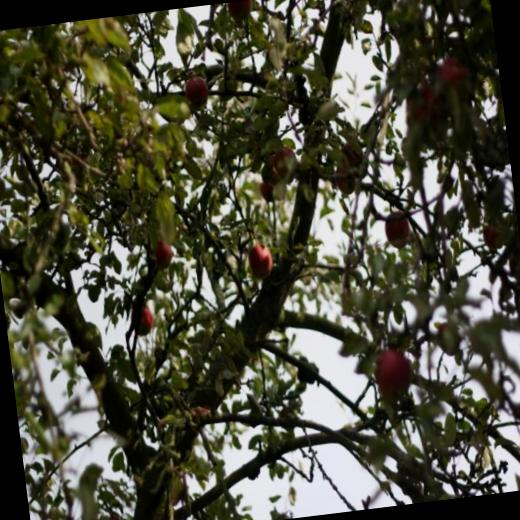Apple: (374, 342, 418, 406), (402, 83, 444, 134), (436, 54, 472, 90), (383, 210, 412, 253), (248, 244, 275, 284), (274, 146, 301, 185), (330, 158, 356, 198), (436, 320, 463, 358), (128, 304, 156, 338), (181, 76, 209, 110), (68, 153, 93, 188), (152, 236, 175, 272), (340, 140, 366, 170), (480, 223, 506, 250), (227, 0, 254, 24), (262, 156, 280, 190), (258, 180, 276, 206), (101, 514, 124, 520)
